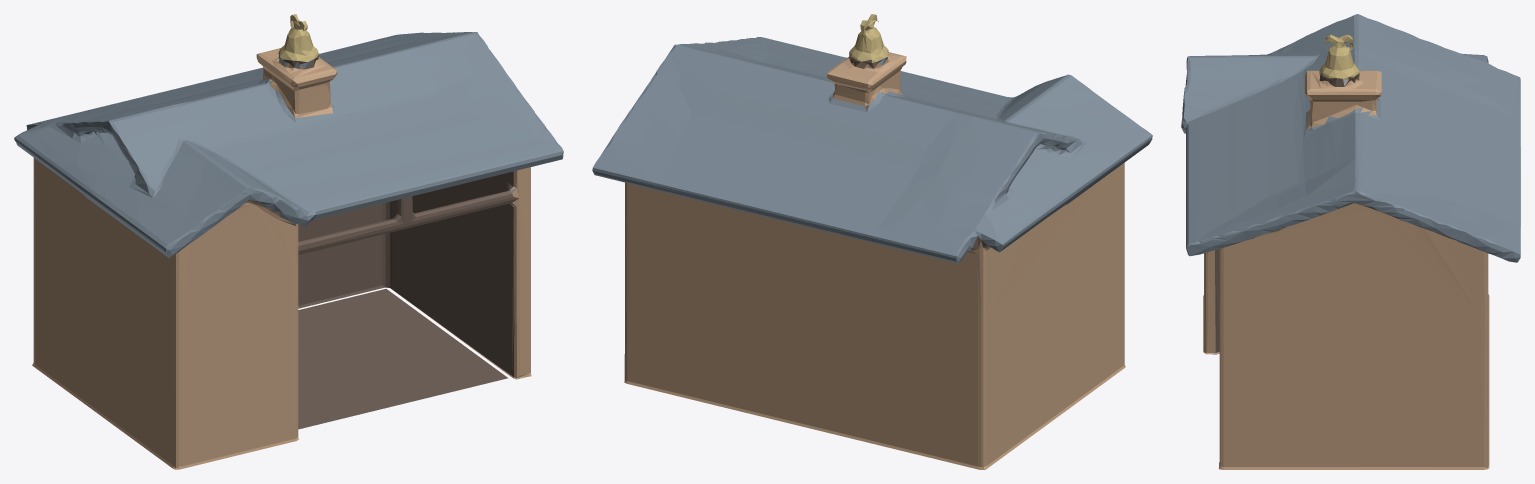
The picture shows the model from 3 angles, left to right: view 1: azimuth 30°, elevation 25°; view 2: azimuth 150°, elevation 25°; view 3: azimuth 270°, elevation 25°; orthographic projection.
Visible parts, largest first — view 1: geometry_0; view 2: geometry_0; view 3: geometry_0.
Boxes of the visible parts, left/top/right/bottom form: geometry_0: left=14, top=14, right=563, bottom=469; geometry_0: left=592, top=14, right=1152, bottom=469; geometry_0: left=1181, top=14, right=1520, bottom=469.
Size of the model in its own units: 1 by 0.8537 by 0.7485.
